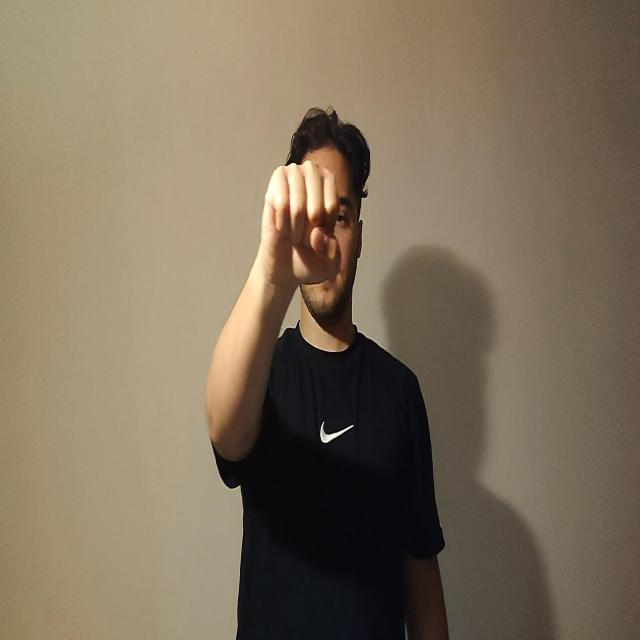yes: (259, 160, 340, 292)
